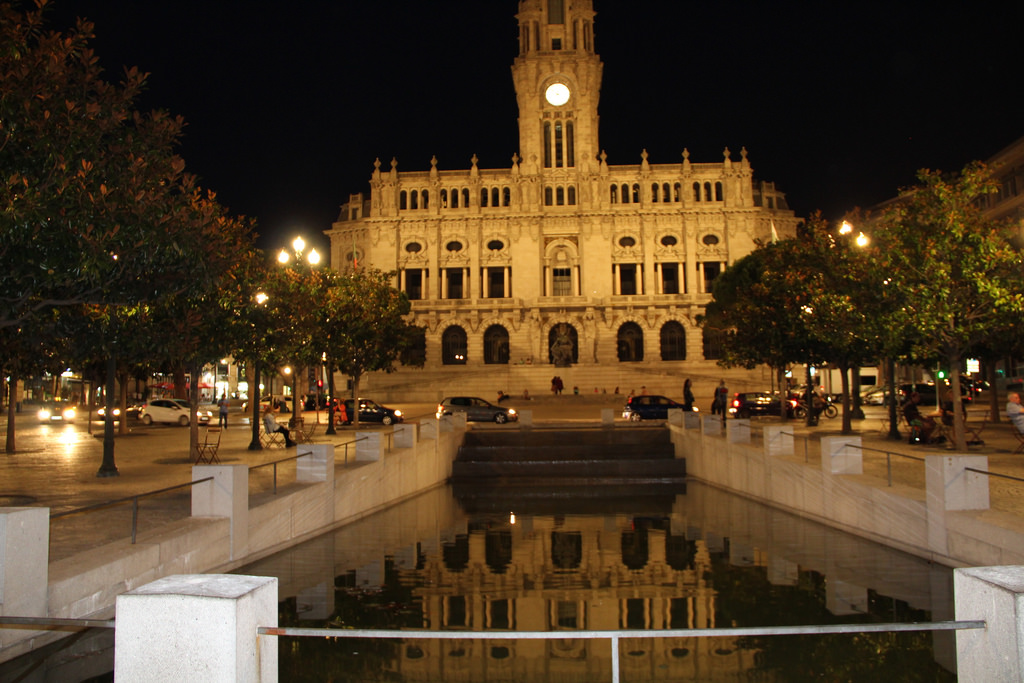camara: (322, 0, 813, 393)
